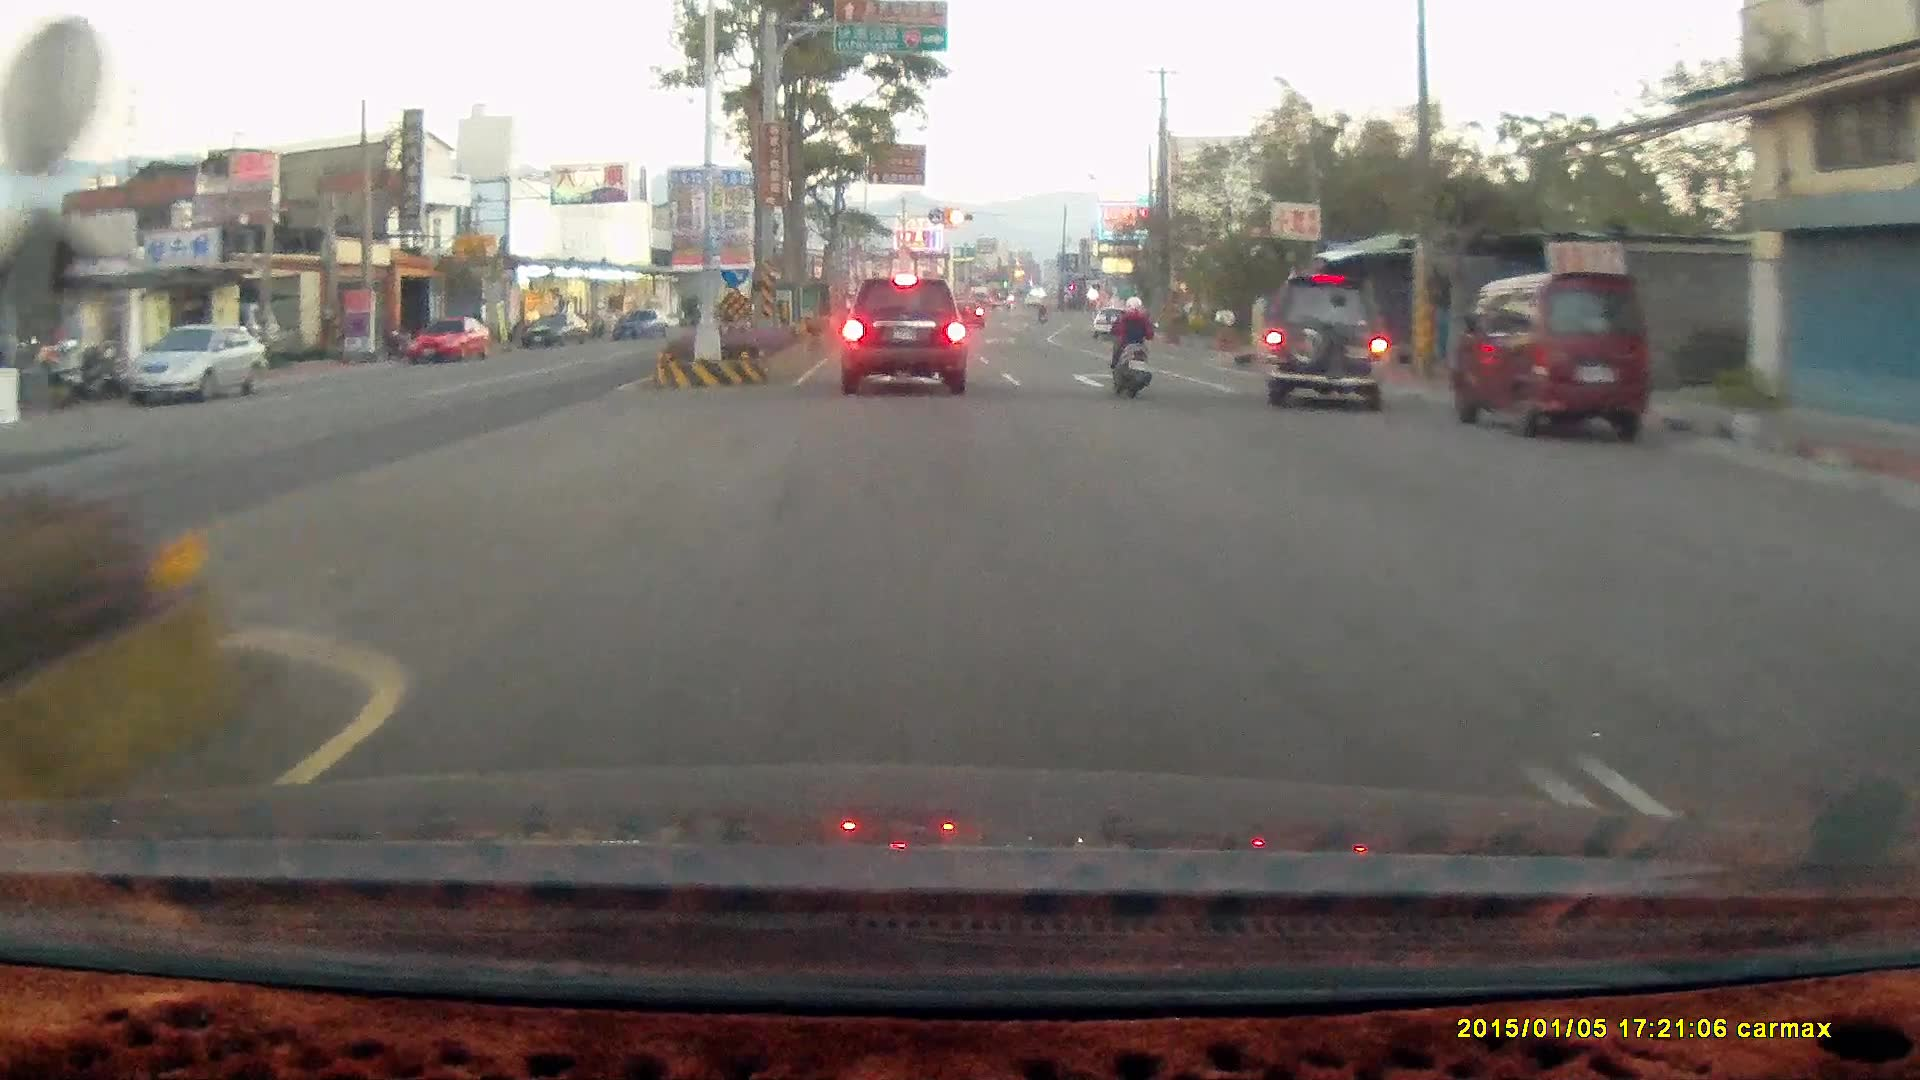rider: (1107, 291, 1156, 399)
vehicle: (1446, 268, 1652, 442), (1448, 270, 1653, 443), (1255, 272, 1396, 403), (1259, 271, 1389, 410), (837, 275, 966, 394), (119, 321, 270, 404), (123, 320, 267, 403), (1896, 493, 1920, 836), (1883, 528, 1920, 690), (406, 313, 488, 364), (405, 314, 487, 363), (1090, 305, 1134, 337)
